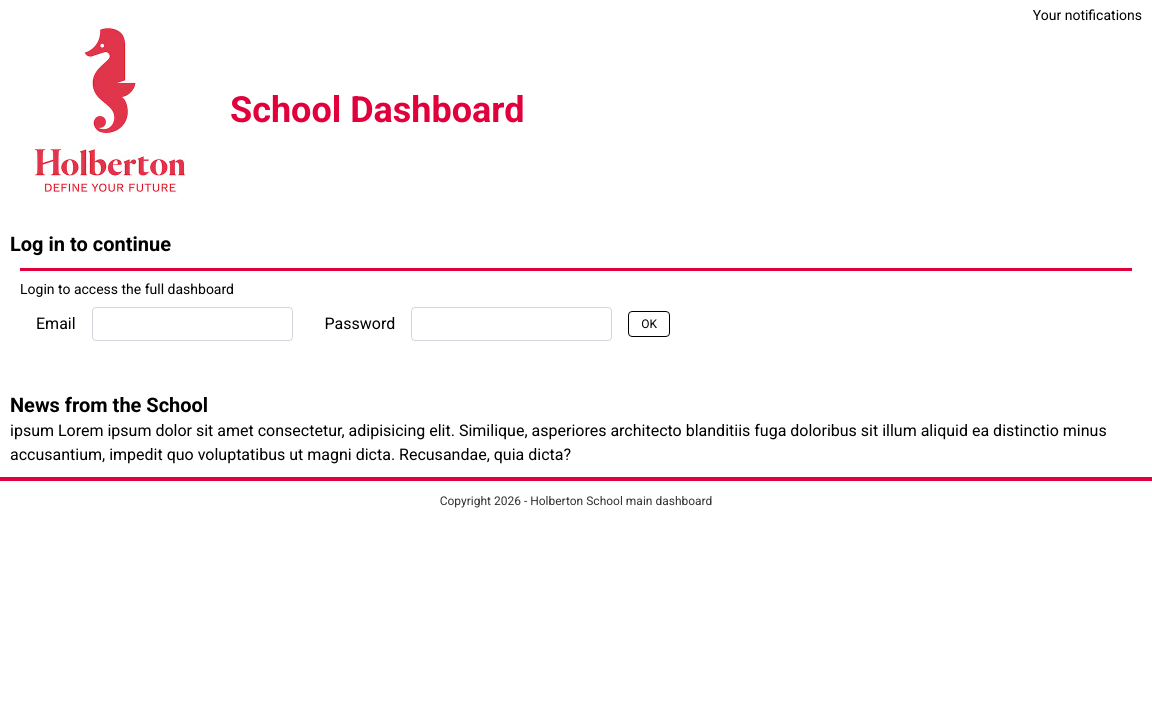
Test: App (Task 0) - displayDrawer state › clicking "Your notifications" opens the drawer
Step 1. Click the text "Your notifications" → (1087, 15), box [1033,5,1142,25]
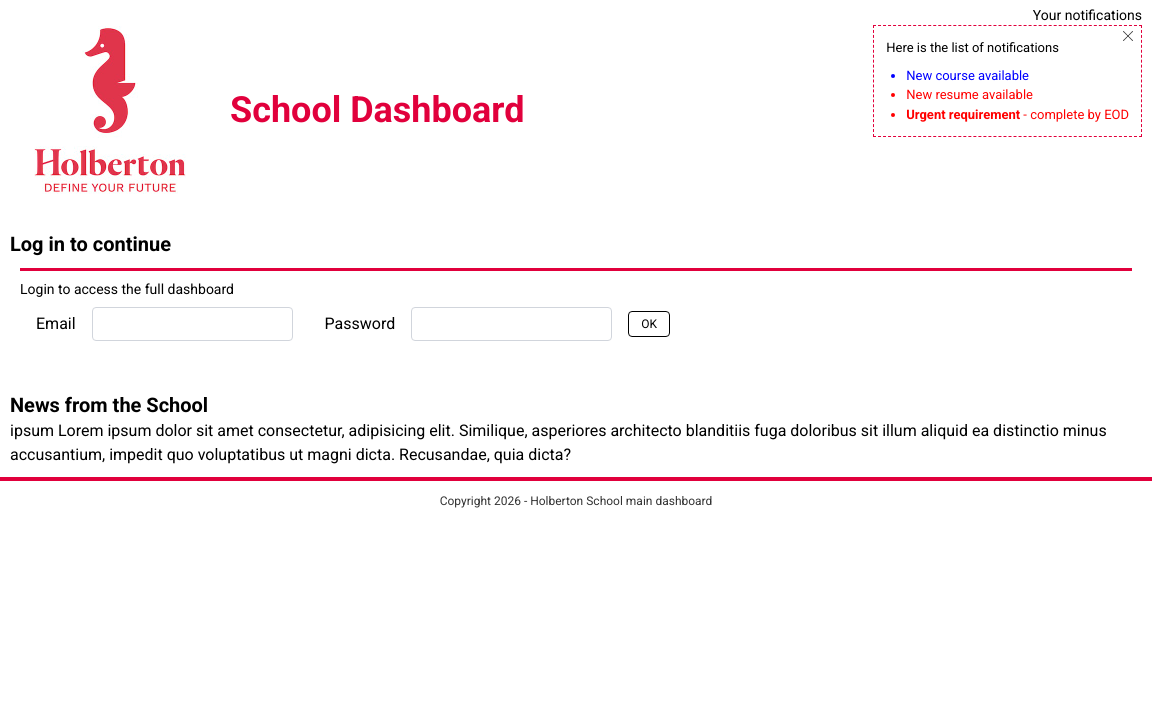
Expected: the text "Here is the list of notifications" is shown, [886,40,1059,55]
